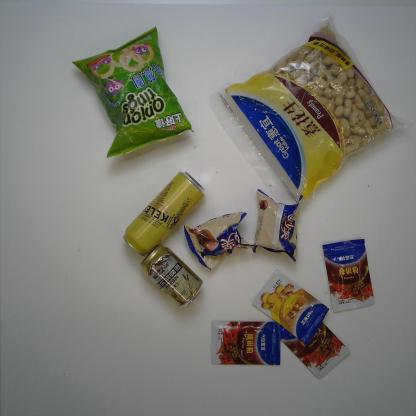Alcohol: (121, 170, 204, 258), (140, 245, 204, 308)
Dessert: (183, 211, 253, 272), (250, 186, 304, 262)
Dried Food: (208, 6, 410, 205)
Puffed Food: (70, 25, 193, 159)
Seasoner: (274, 305, 350, 379), (254, 272, 328, 342), (322, 239, 375, 312), (211, 318, 282, 367)
